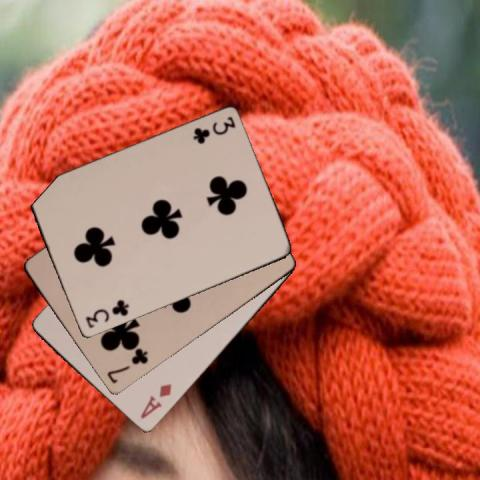3c: (82, 297, 130, 330), (190, 114, 237, 145)
7c: (104, 346, 149, 386)
Ad: (138, 381, 174, 421)
